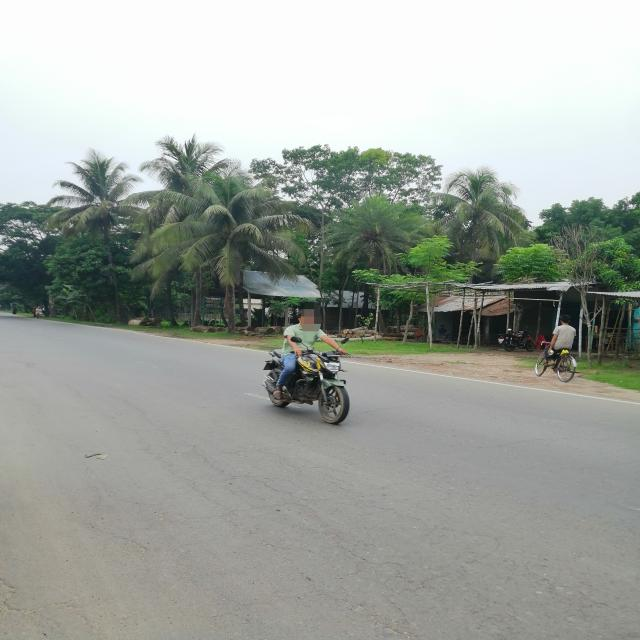Bicycle: (528, 341, 594, 389)
Motorbike: (263, 337, 354, 426)
